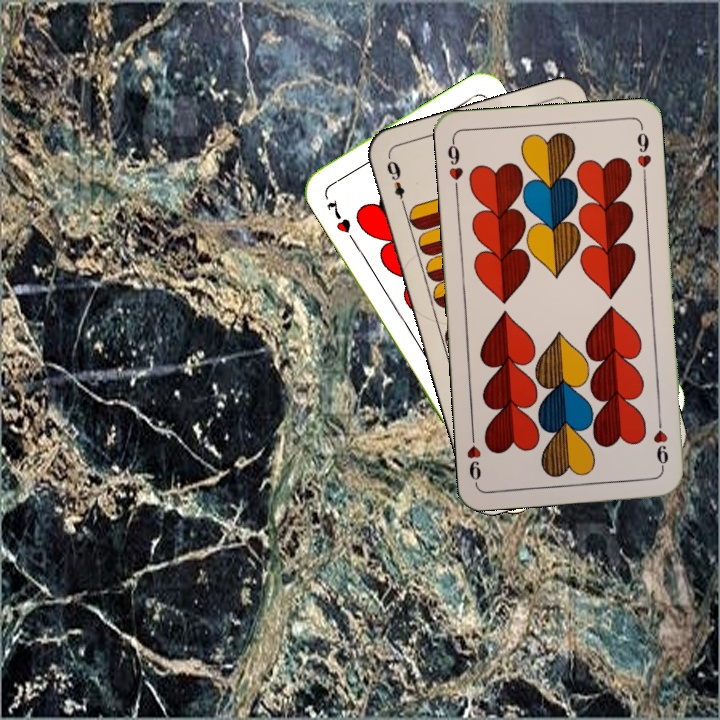E9: (382, 154, 409, 212)
H7: (322, 195, 354, 236)
H9: (443, 136, 466, 195), (649, 413, 671, 472)
